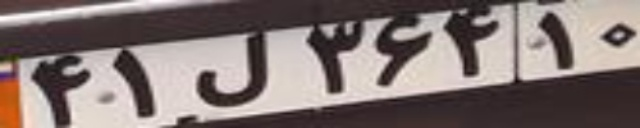0: (596, 21, 637, 47)
1: (111, 48, 156, 118), (535, 9, 576, 70)
3: (305, 20, 367, 94)
4: (26, 55, 90, 126), (443, 6, 504, 78)
6: (370, 13, 435, 87)
lam: (191, 30, 272, 107)
